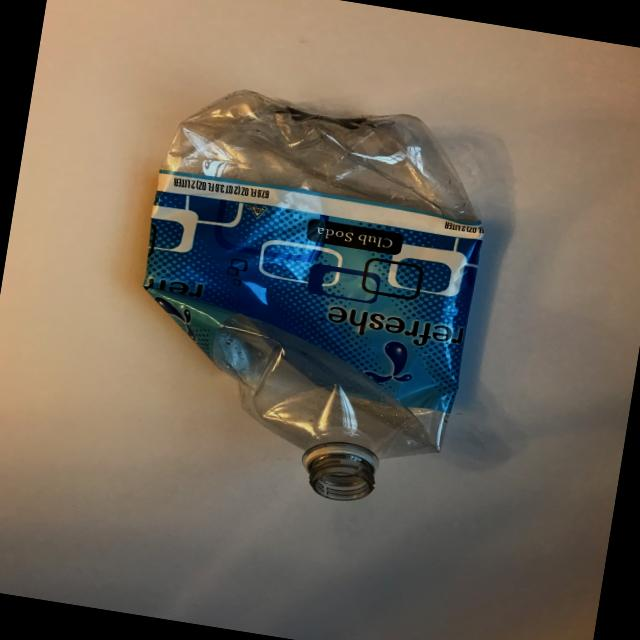Plastic: (90, 52, 604, 540)
